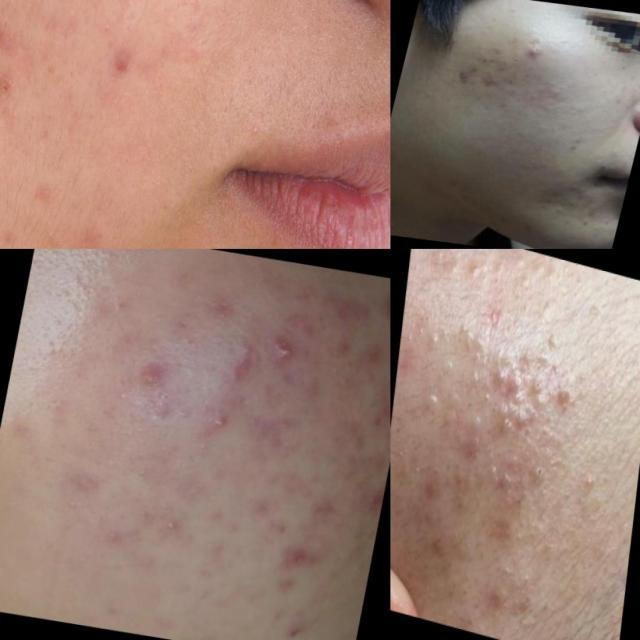8: (130, 359, 174, 408), (270, 544, 313, 587), (214, 364, 254, 401), (429, 520, 454, 567), (551, 379, 575, 414), (416, 470, 442, 498), (488, 582, 506, 615), (524, 43, 545, 61)
9: (268, 331, 309, 386), (196, 408, 242, 445)
blackheads: (487, 509, 517, 543), (475, 49, 511, 72), (452, 64, 478, 88), (477, 71, 501, 95)
dark spot: (495, 398, 538, 446), (529, 452, 558, 494), (468, 408, 488, 456), (508, 368, 529, 406), (424, 384, 446, 418), (478, 382, 498, 412), (546, 326, 566, 354), (500, 468, 518, 498), (465, 258, 483, 284), (449, 384, 465, 408), (531, 374, 543, 396)
